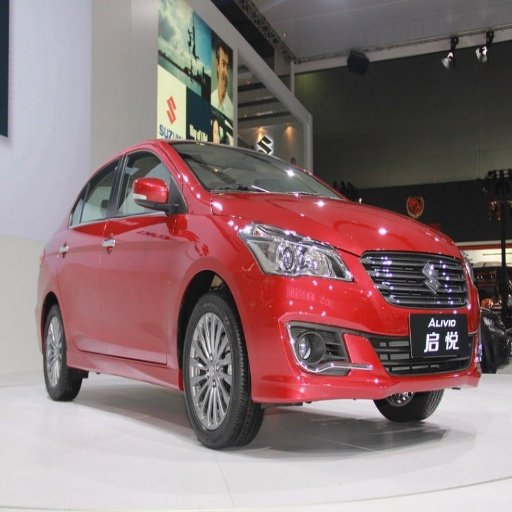front_bumper: (239, 250, 482, 399)
front_right_door: (101, 146, 180, 360)
front_right_light: (249, 225, 354, 281)
